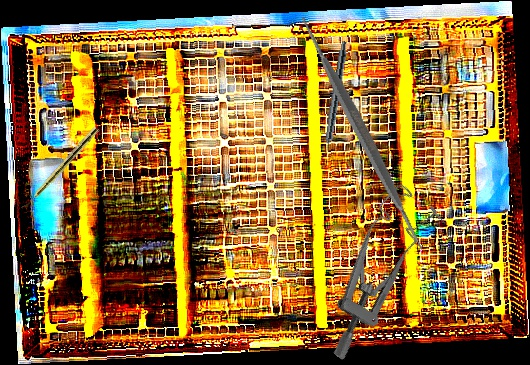Handpiece: (19, 125, 100, 213), (319, 40, 349, 161)
Spatula Surgical: (230, 2, 494, 266)
Speculum: (285, 179, 460, 363)
